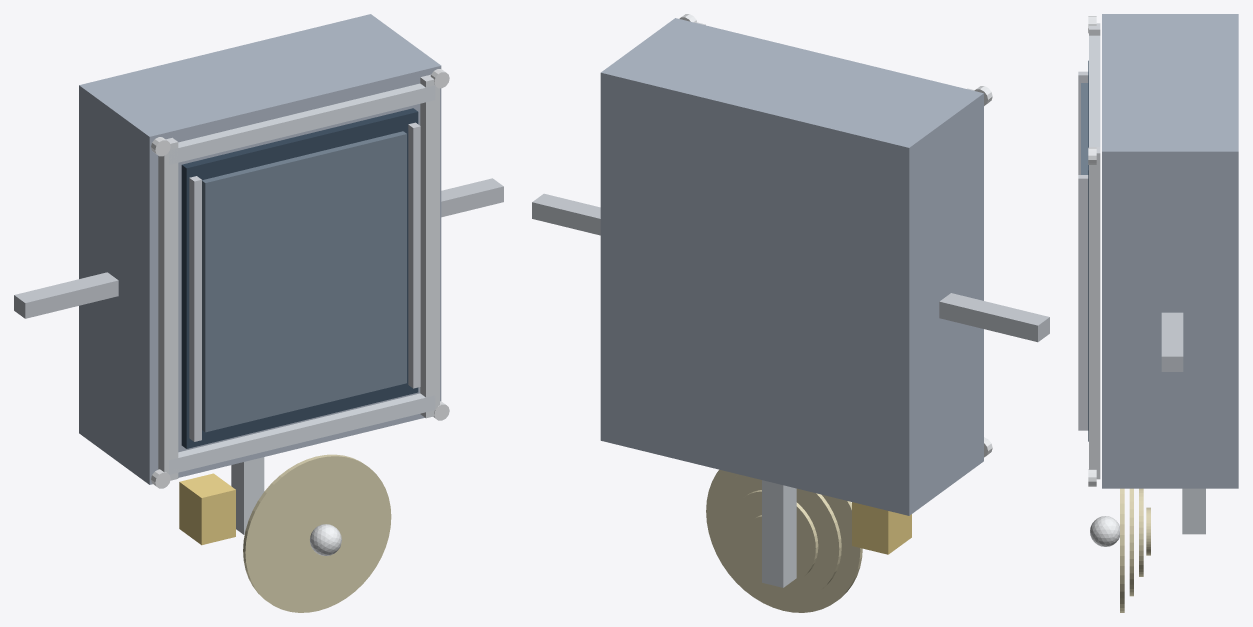
File: sat_002_bus_serviceable.glb
3 renders of one model, left to right at view 1: azimuth 30°, elevation 25°; view 2: azimuth 150°, elevation 25°; view 3: azimuth 270°, elevation 25°, orthographic. The views are drawn at different scales.
Visible parts, largest first — view 1: Bus structural core, Service bay tray, Dish ring 0.34, Service bay depression, Structural side rail -0.61, Structural side rail 0.61, Structural upper-lower rail -0.69, Structural upper-lower rail 0.69, RF feed, Bay guide rail -0.51, Bay guide rail 0.51, Wing boom -1 (+3 smaller); view 2: Bus structural core, Dish ring 0.27, Dish ring 0.34, Antenna mast, Wing boom -1, Dish ring 0.19, RF feed, Wing boom 1; view 3: Bus structural core, Structural side rail 0.61, Bay guide rail 0.51, Wing boom 1, Structural upper-lower rail 0.69, Antenna mast, Dish receiver, Service bay tray, Dish ring 0.34, Dish ring 0.27, Dish ring 0.19, Bay guide rail -0.51 (+2 smaller).
Boxes of the visible parts, x1,y1,x2,y2 form: Bus structural core: (79,14,441,484); Service bay tray: (202,131,406,432); Dish ring 0.34: (243,454,391,612); Service bay depression: (181,108,418,448); Structural side rail -0.61: (158,137,178,480); Structural side rail 0.61: (420,74,439,418); Structural upper-lower rail -0.69: (169,393,435,474); Structural upper-lower rail 0.69: (169,83,435,164); RF feed: (179,473,235,545); Bay guide rail -0.51: (189,176,201,441); Bay guide rail 0.51: (408,122,420,388); Wing boom -1: (14,272,118,318); Bus structural core: (600,18,983,515); Dish ring 0.27: (716,474,841,599); Dish ring 0.34: (706,469,862,612); Antenna mast: (762,480,796,587); Wing boom -1: (939,293,1049,342); Dish ring 0.19: (729,490,818,583); RF feed: (852,502,911,554); Wing boom 1: (532,193,600,235); Bus structural core: (1102,14,1238,488); Structural side rail 0.61: (1089,147,1100,479); Bay guide rail 0.51: (1078,175,1088,430); Wing boom 1: (1161,312,1183,371); Structural upper-lower rail 0.69: (1089,35,1100,146); Antenna mast: (1182,488,1205,534); Dish receiver: (1090,516,1119,546); Service bay tray: (1081,83,1088,174); Dish ring 0.34: (1120,488,1124,612); Dish ring 0.27: (1129,488,1133,596); Dish ring 0.19: (1139,488,1143,576); Bay guide rail -0.51: (1078,71,1088,174).
Size of the model in its own units: 2.23 by 2.34 by 0.6675.
